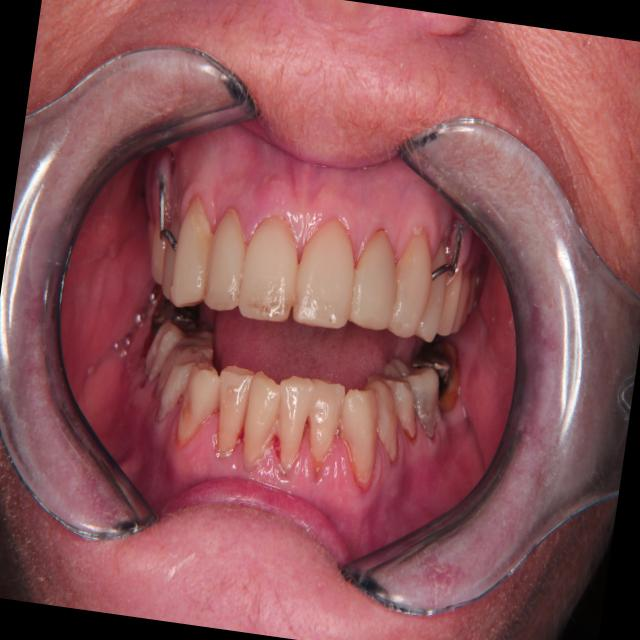tooth: (285, 204, 370, 336), (232, 204, 308, 331), (341, 218, 410, 341), (326, 375, 394, 497), (144, 325, 219, 434), (133, 312, 218, 402), (372, 349, 451, 444), (383, 221, 441, 342), (166, 188, 223, 311), (294, 364, 353, 482), (400, 326, 470, 419), (199, 201, 255, 316), (266, 367, 320, 483), (351, 371, 413, 470), (408, 228, 458, 348), (355, 367, 427, 448), (236, 364, 288, 476), (207, 356, 259, 463), (173, 352, 227, 452), (432, 248, 469, 343), (155, 205, 189, 306), (146, 209, 177, 288), (447, 259, 474, 339), (139, 211, 166, 270), (461, 262, 482, 330)
